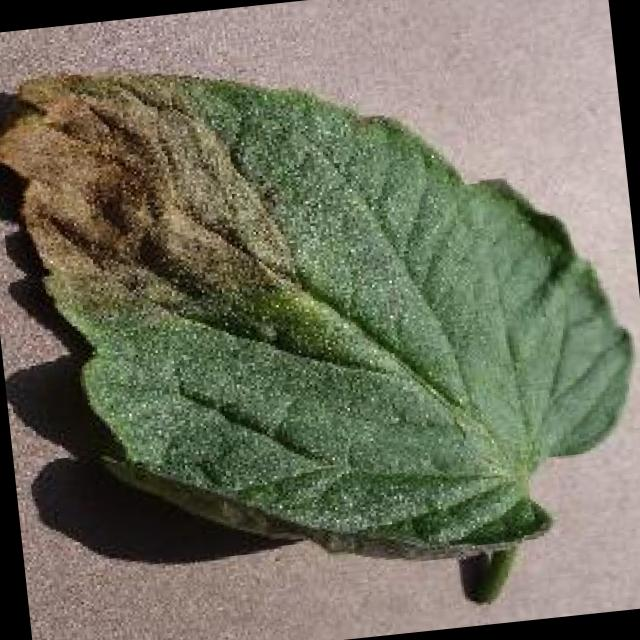Tomato_Late_Blight: (0, 51, 317, 354)
